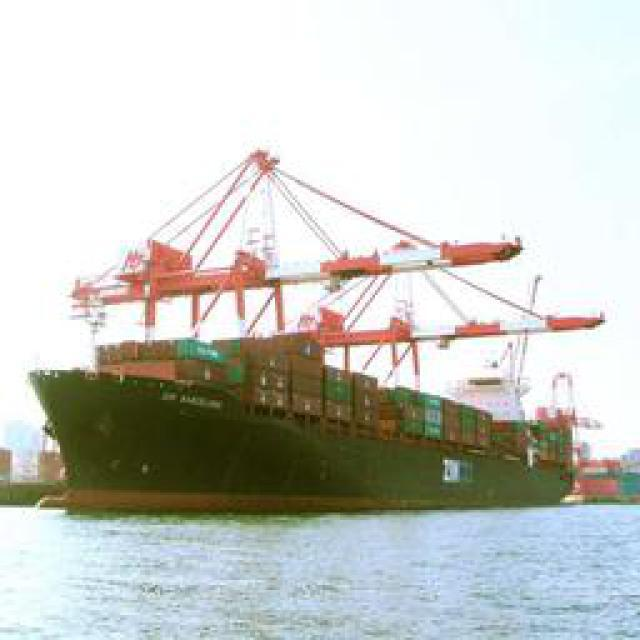Ship: (21, 139, 594, 499)
